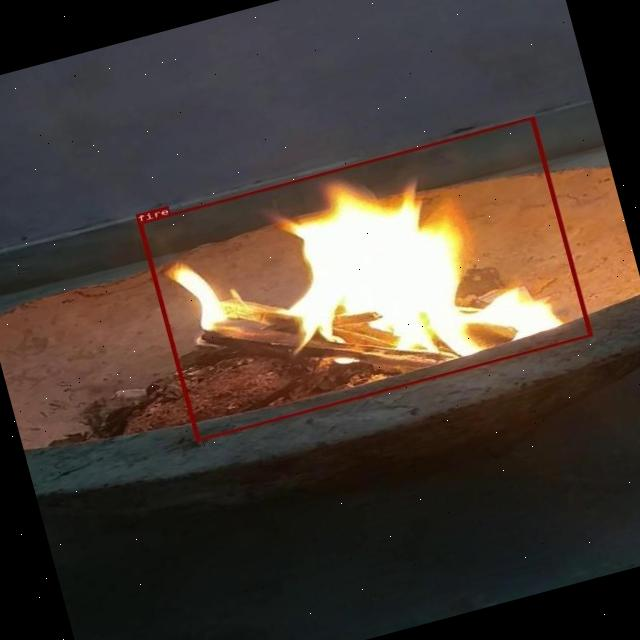fire: (136, 116, 592, 442)
